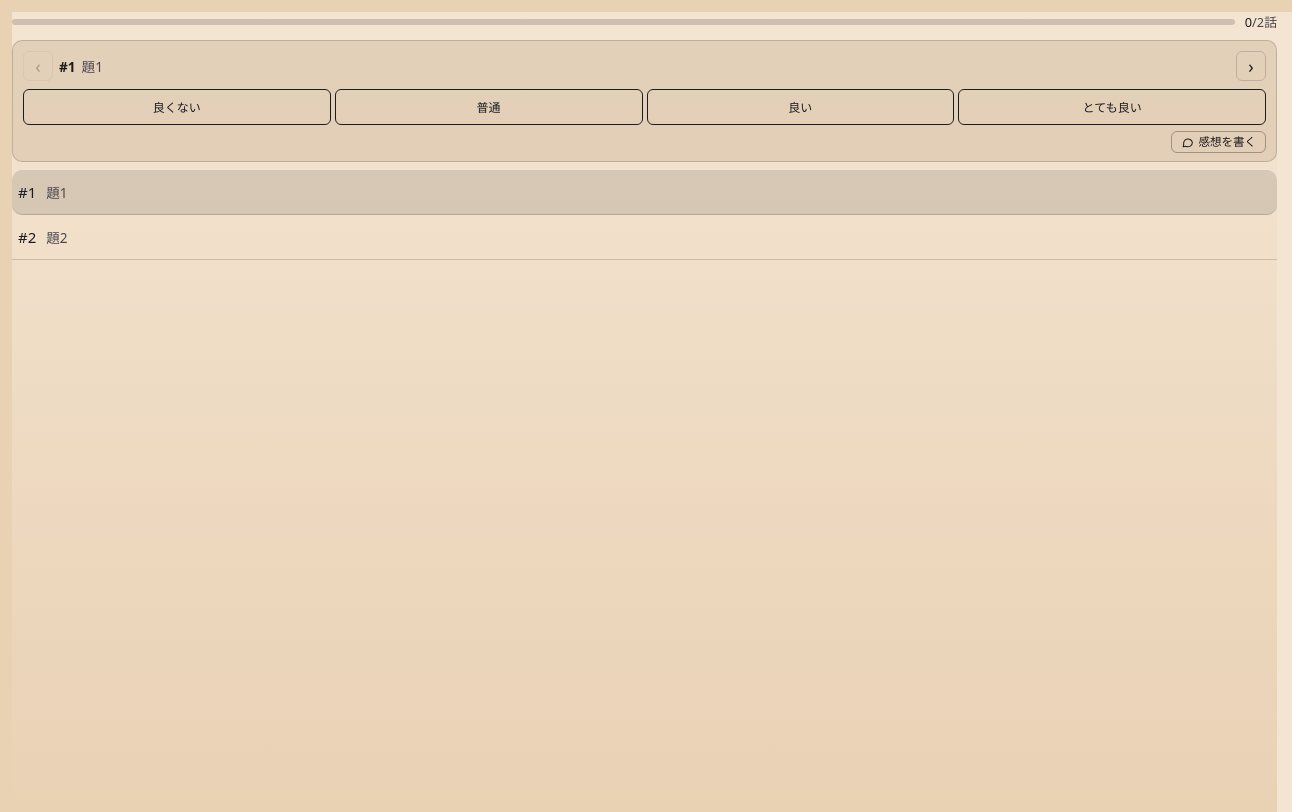
Scenario: EpisodeRecorder: a comment on an episode, only for those who want to write one › when the record could not be kept for undo, "感想を書く" goes on to the next episode (write, then rate)
Click the button "良い" at [800, 108], box x1=646 y1=90 x2=954 y2=126
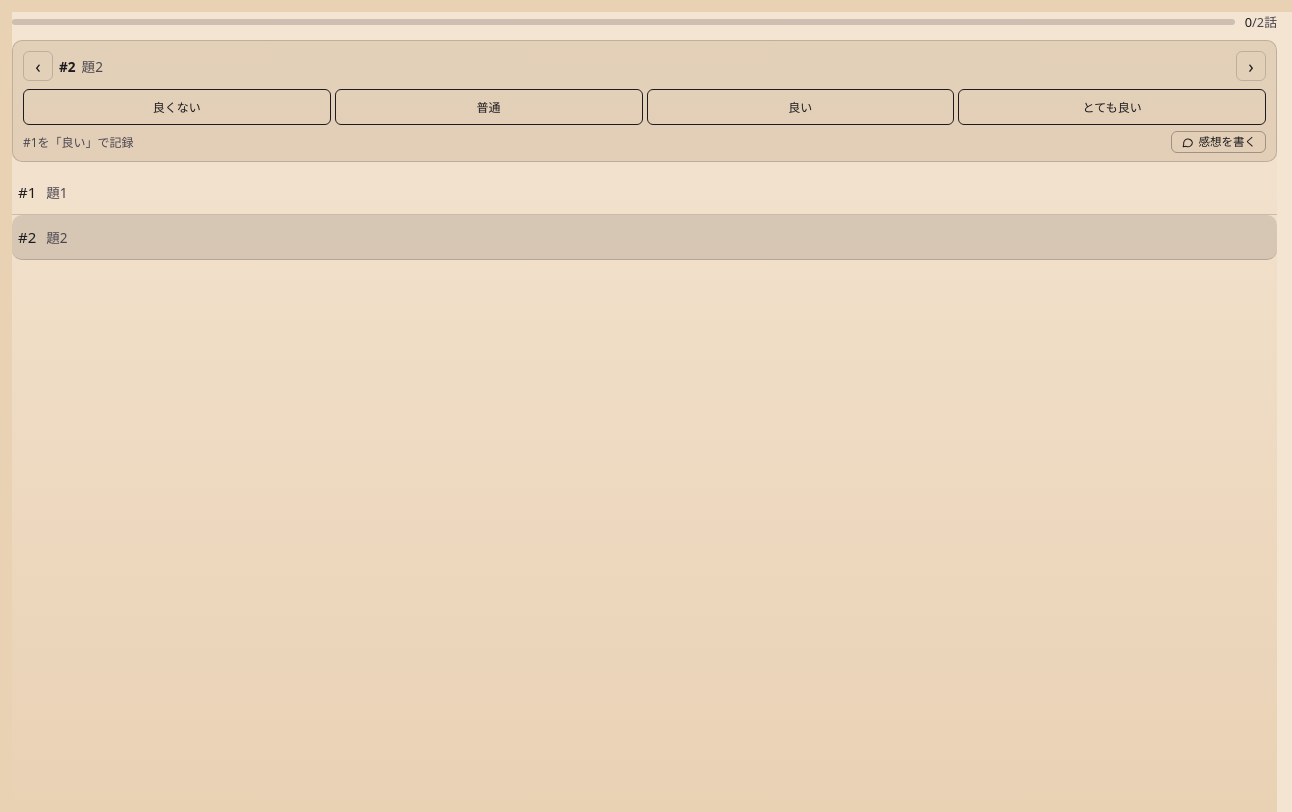
Click the button "感想を書く" at [1219, 142], box x1=1171 y1=132 x2=1266 y2=154
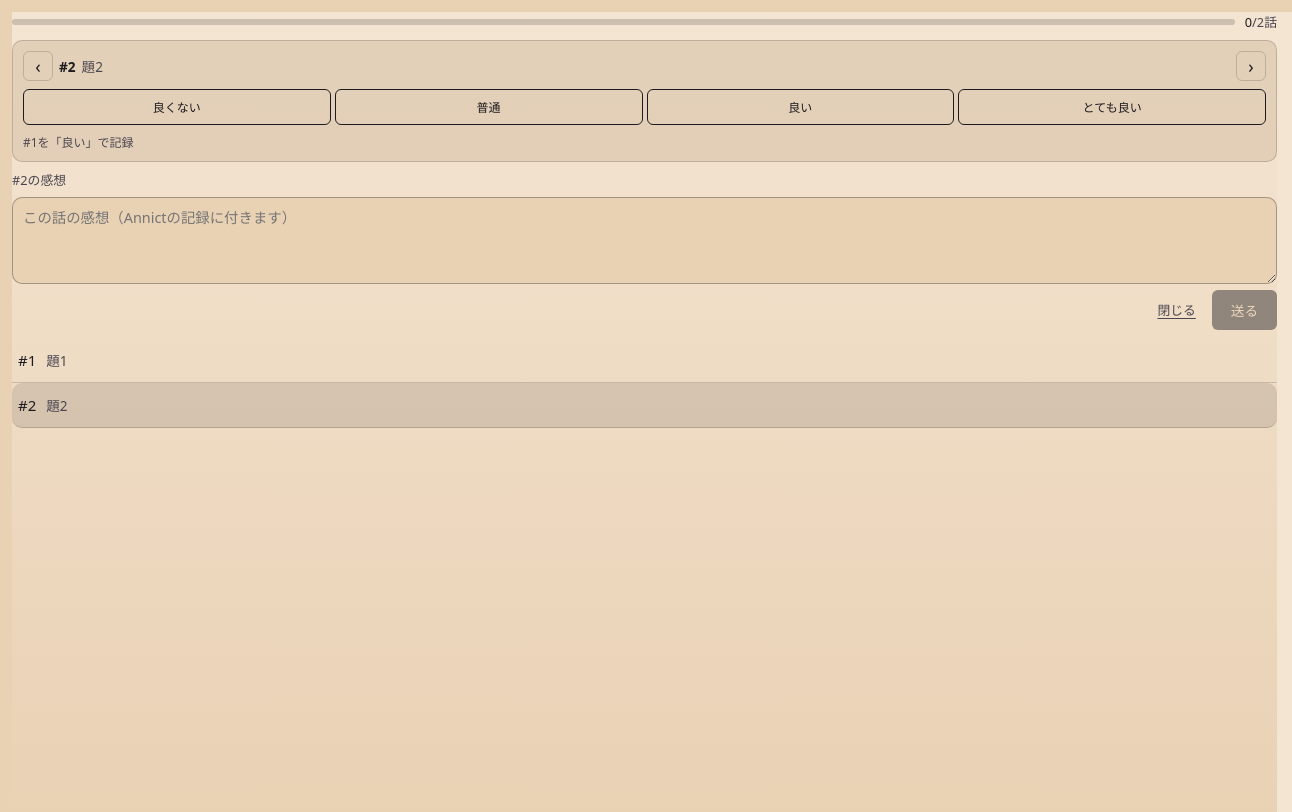
Check: the text box labelled "#2の感想" is shown, box x1=12 y1=197 x2=1277 y2=284
